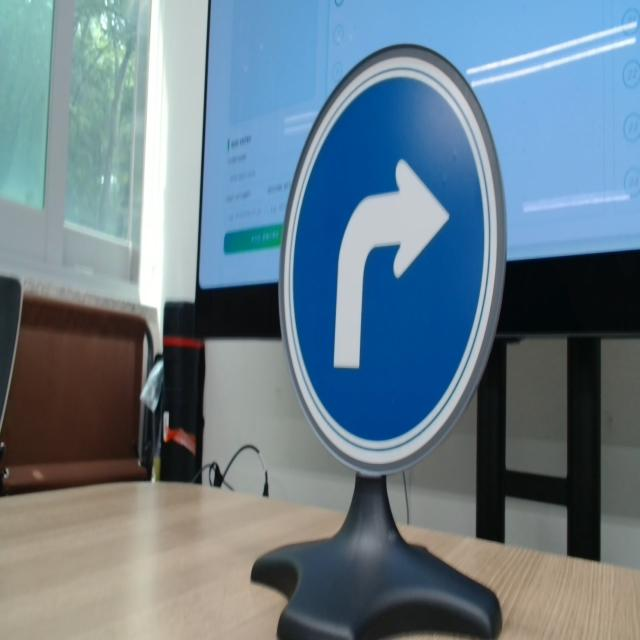right_dierection: (268, 22, 521, 502)
